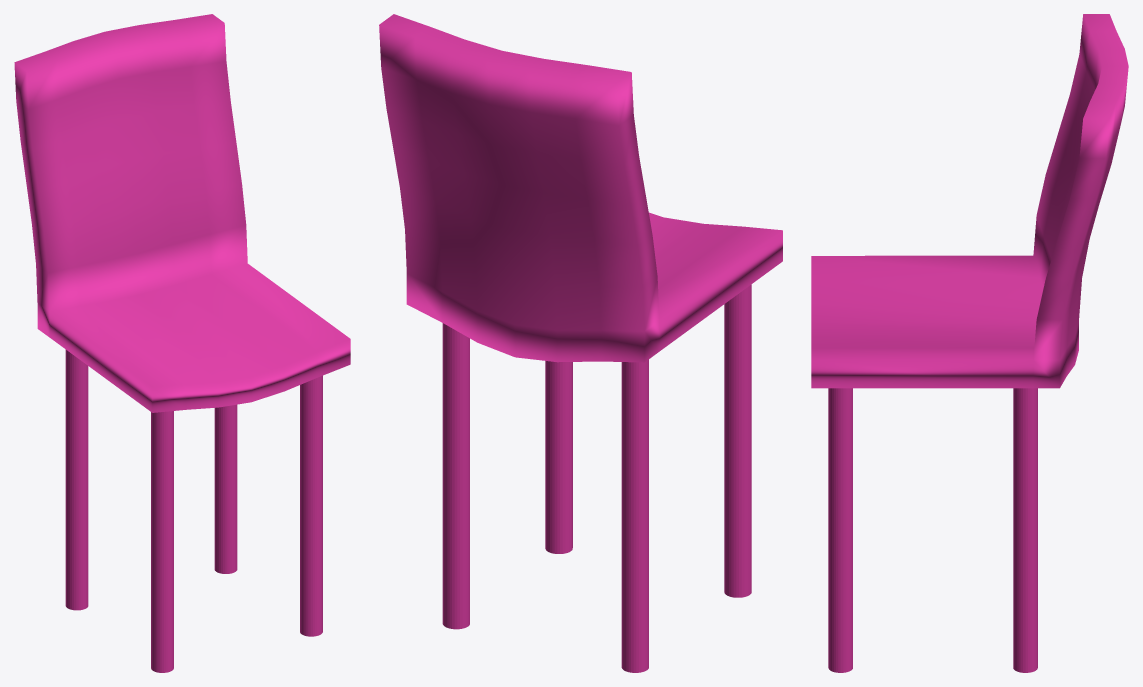
Rendered from chair.glb.
The picture shows the model from 3 angles, left to right: view 1: azimuth 30°, elevation 25°; view 2: azimuth 150°, elevation 25°; view 3: azimuth 270°, elevation 25°; orthographic projection. The views are drawn at different scales.
Parts seen in each view (by area): view 1: Stuhl; view 2: Stuhl; view 3: Stuhl.
Part boxes in pixels (<box>): Stuhl: <box>14,14,350,672</box>; Stuhl: <box>379,14,782,672</box>; Stuhl: <box>811,14,1128,672</box>.
Bounding box in the file's own units: 0.4 × 1 × 0.5137.
